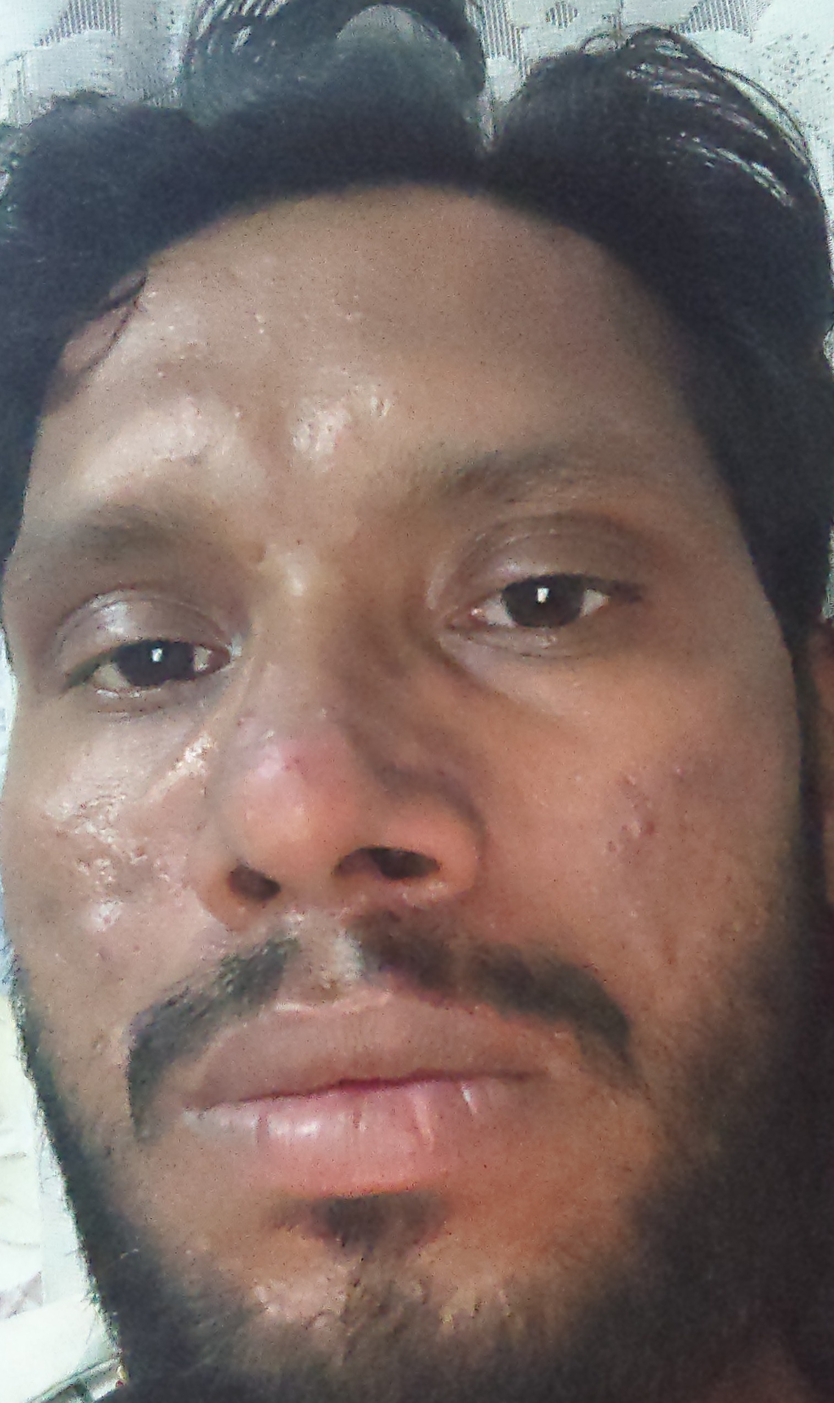cyst: (66, 891, 136, 977), (613, 787, 675, 868), (71, 822, 140, 882)
